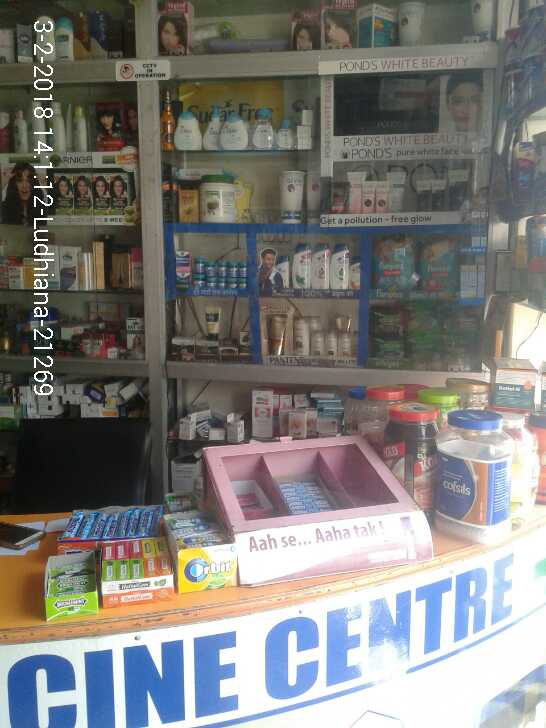vicks: (173, 245, 252, 293)
